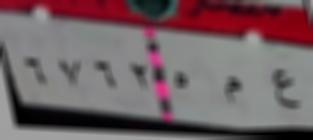2: (124, 54, 152, 95)
6: (13, 49, 50, 90), (91, 52, 118, 95)
7: (57, 50, 83, 93)
ain: (265, 63, 305, 114)
haa: (169, 60, 192, 98)
meem: (222, 70, 243, 111)
